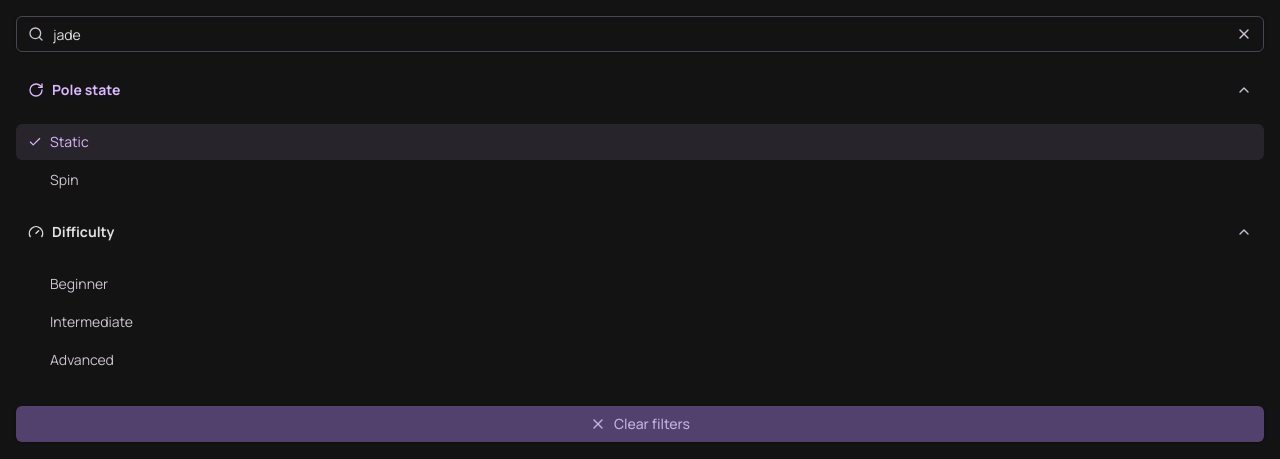
Test: CatalogFilters › search clear button clears input and removes search from URL, keeps other filters
Expected: the field named "Search" holds "jade", [16,16,1264,52]
Click the button named "clear search": (1244, 34) [1232,22,1256,46]
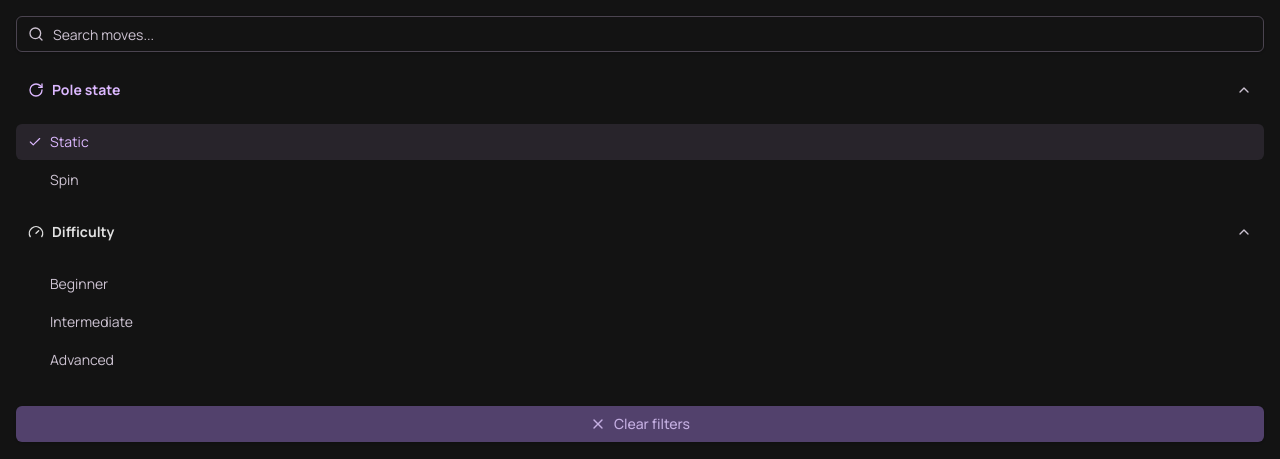
Expected: the field labelled "Search moves..." is empty, [16,16,1264,52]
